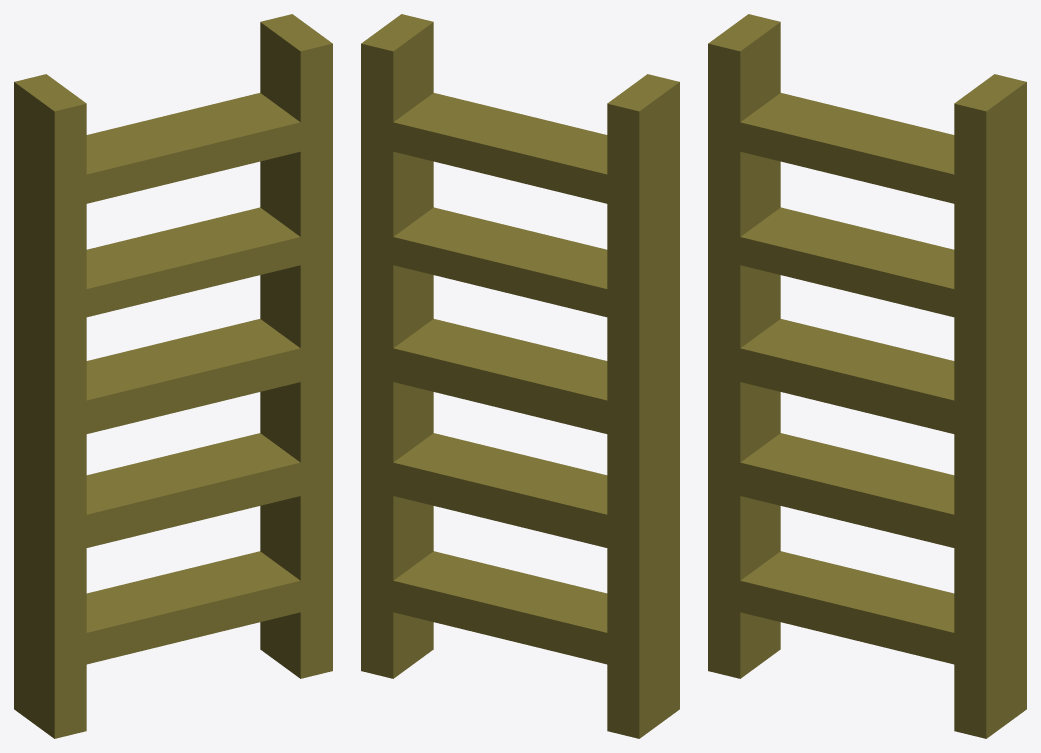
File: stair.fbx
The picture shows the model from 3 angles, left to right: view 1: azimuth 30°, elevation 25°; view 2: azimuth 150°, elevation 25°; view 3: azimuth 330°, elevation 25°; orthographic projection.
Parts seen in each view (by area): view 1: pCube102; view 2: pCube102; view 3: pCube102.
Boxes of the visible parts, box(x1,y1,x2,y2) form: pCube102: box(14, 14, 332, 738); pCube102: box(361, 14, 679, 738); pCube102: box(708, 14, 1026, 738).
Bounding box in the file's own units: 5.74 × 12.36 × 1.44.
